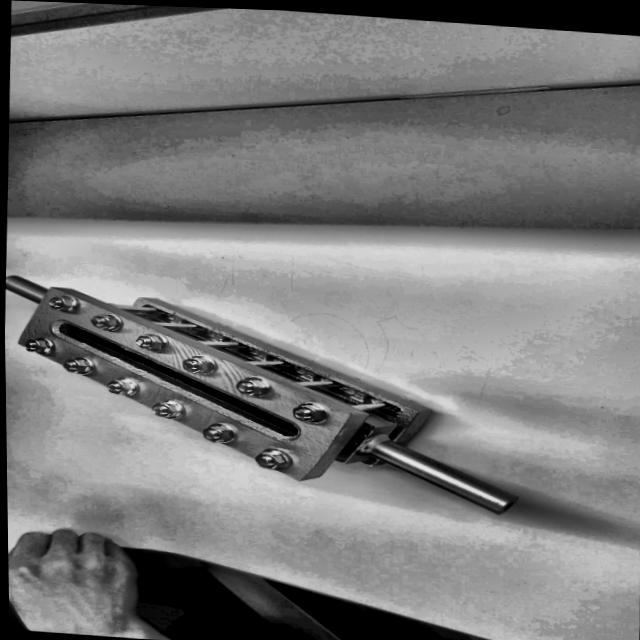ShuiWeiQi_12: (3, 255, 520, 516)
